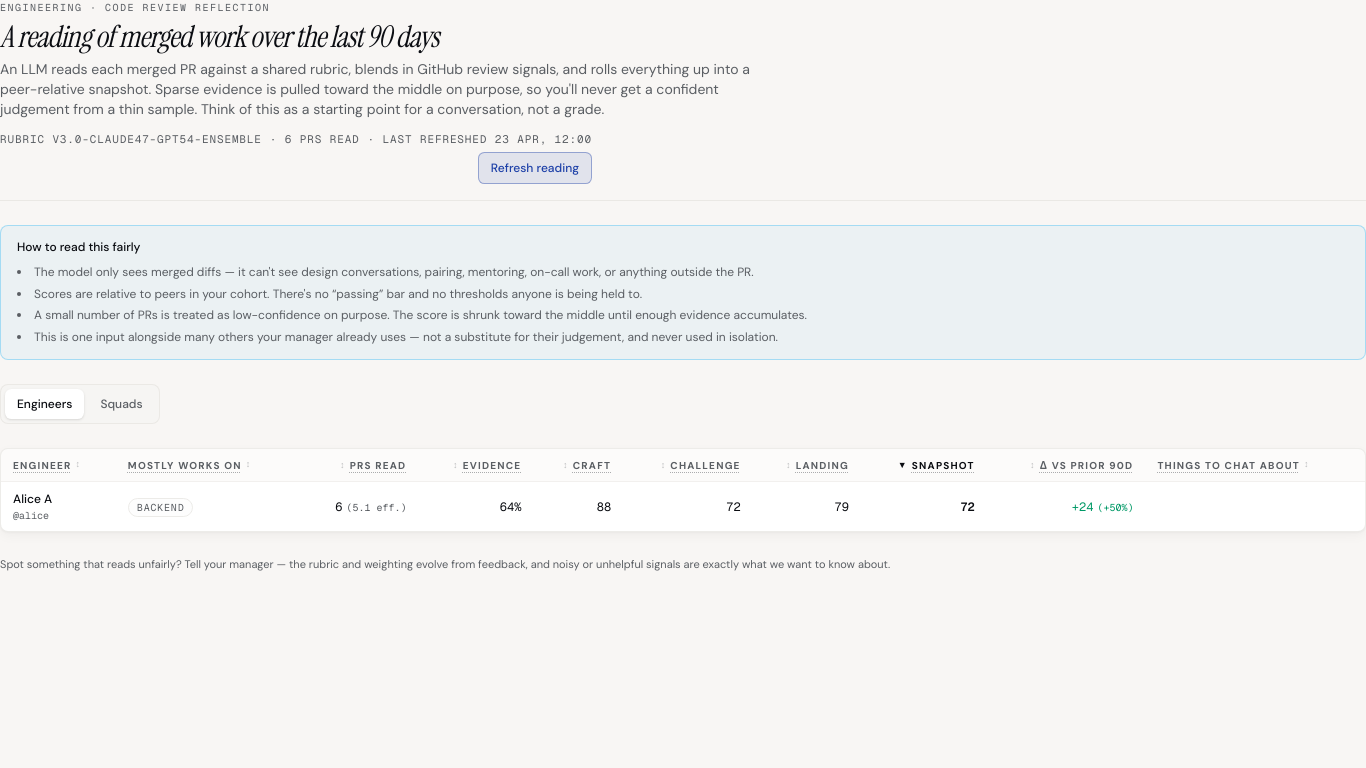
Test case: <CodeReviewReport /> › switches to the squad view and opens a squad drawer on click
Expected: the text "Payments" is not shown
Step 1. Click the button "Squads" → (122, 404), box [88, 389, 155, 419]
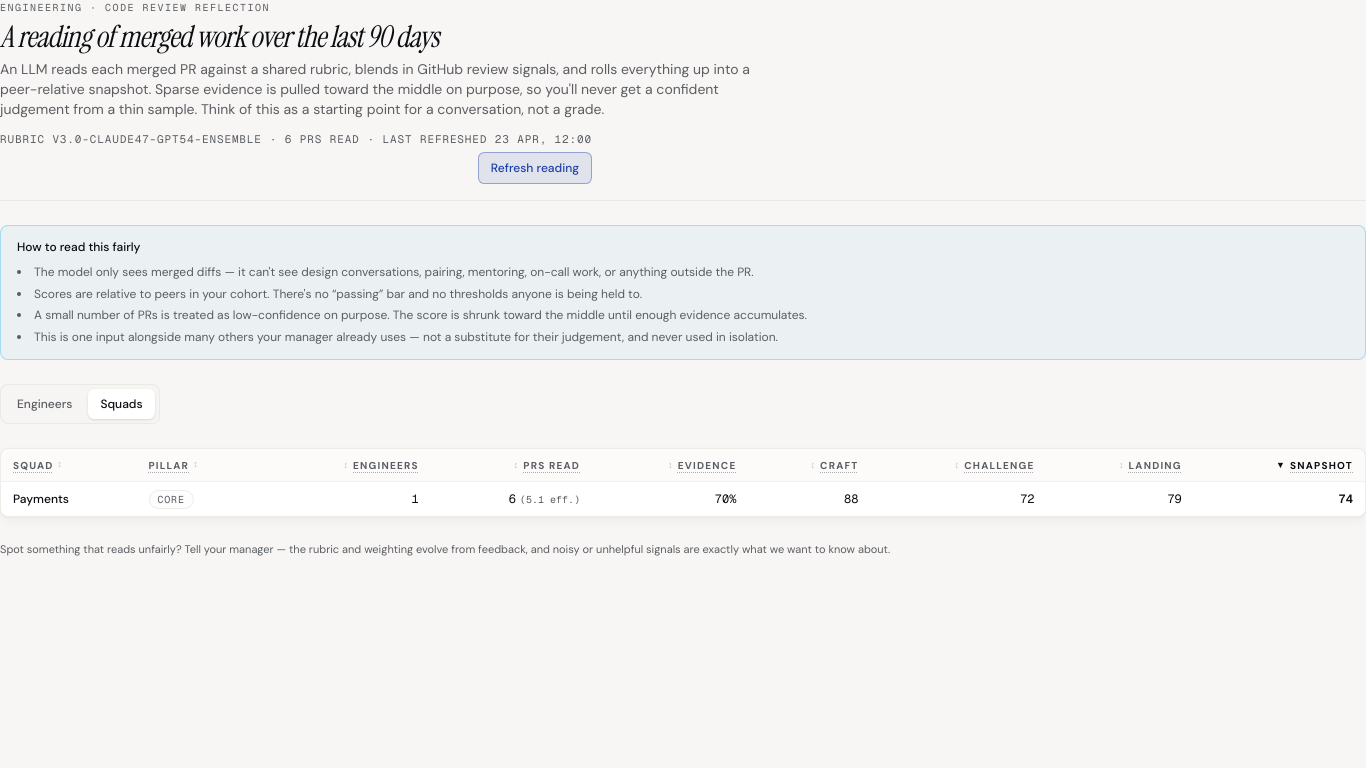
Now the text "Payments" is shown
Now the text "Core" is shown, box [148, 490, 194, 509]
Step 2. Click the text "Payments" → (41, 499), box [13, 491, 69, 507]
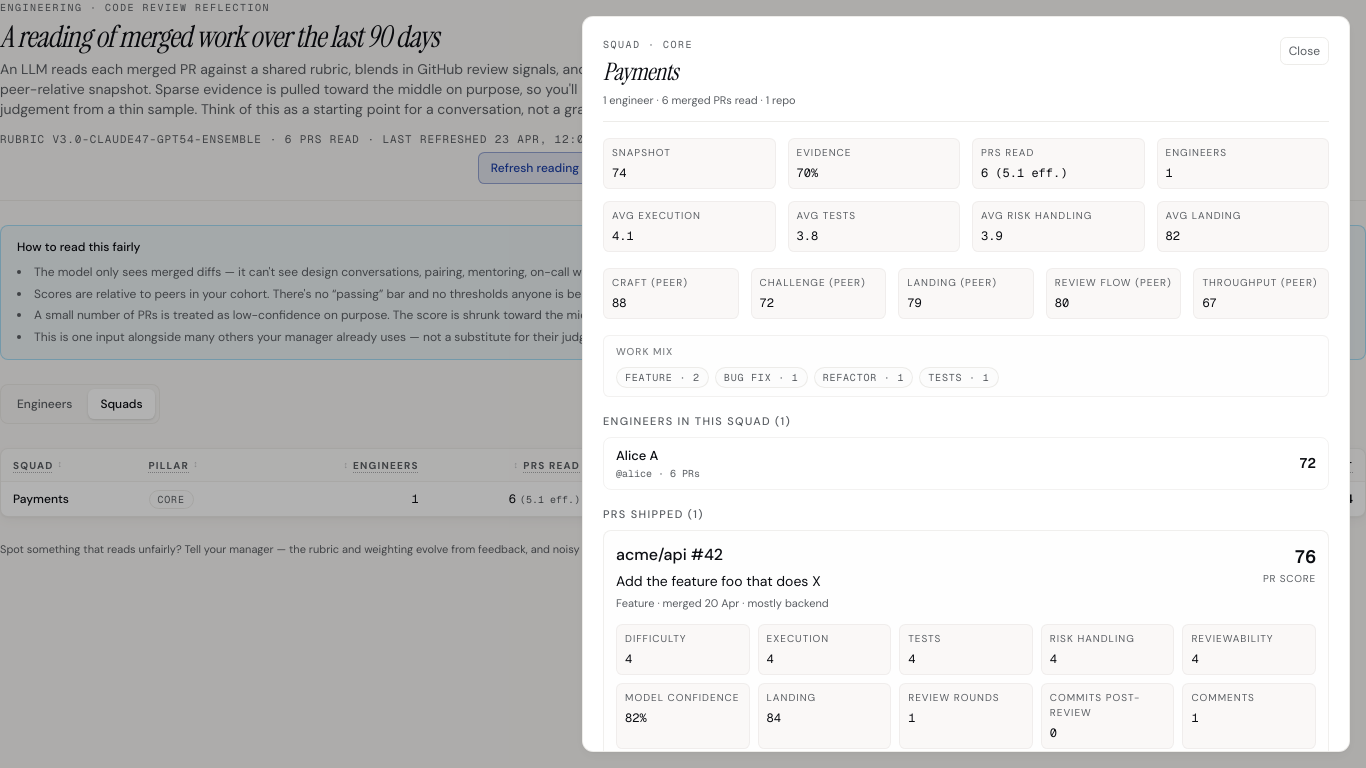
Now the heading "Engineers in this squad (1)" is shown, box [603, 414, 791, 428]
Now the heading "PRs shipped (1)" is shown, box [603, 506, 704, 520]
